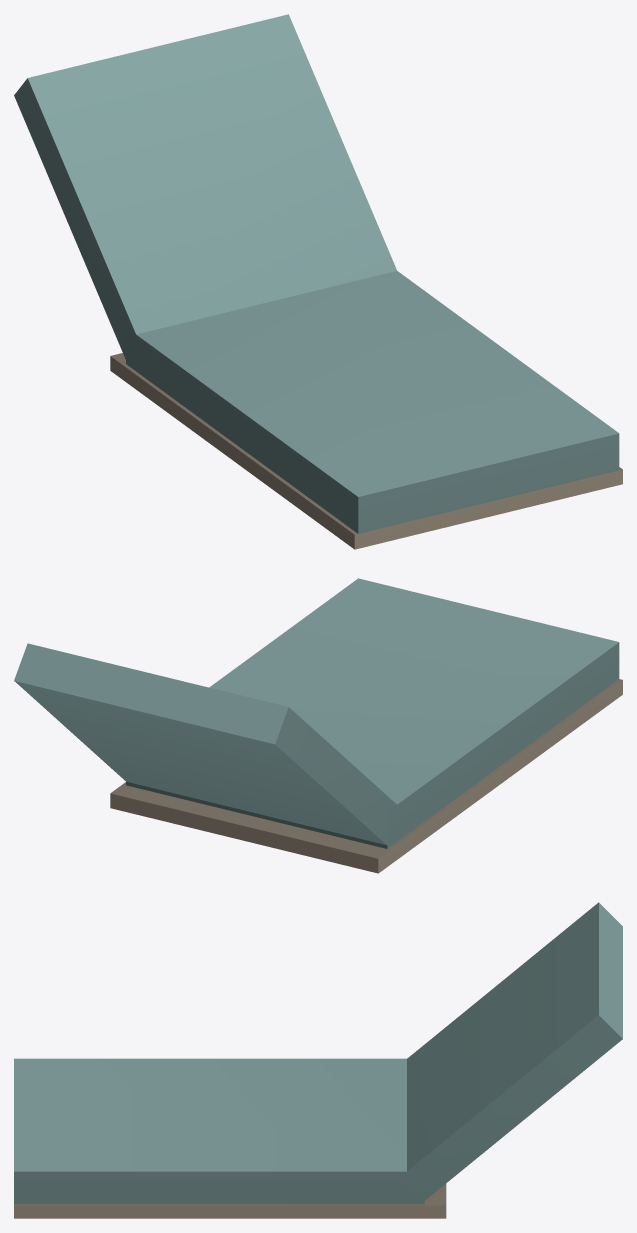
File: lounger.lod2.glb
The picture shows the model from 3 angles, top to bottom: view 1: azimuth 30°, elevation 25°; view 2: azimuth 150°, elevation 25°; view 3: azimuth 270°, elevation 25°; orthographic projection. The views are drawn at different scales.
Bounding box in the file's own units: 0.76 × 0.6195 × 1.69.
